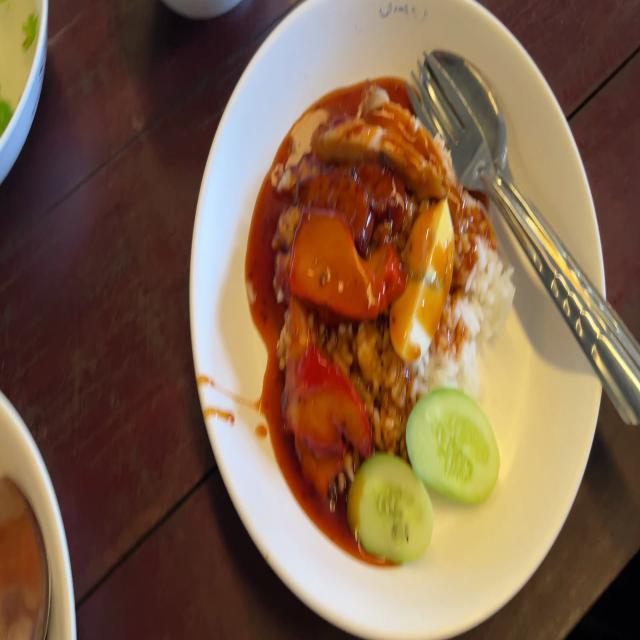boiled_egg: (392, 204, 454, 361)
chainese_sausage: (297, 156, 410, 238)
crispy_pork: (317, 88, 446, 187)
cucumber: (408, 389, 499, 505), (346, 454, 435, 560)
red_pork: (283, 338, 368, 480), (291, 208, 395, 312)
red_pork_and_crispy_pork: (270, 82, 516, 566)
